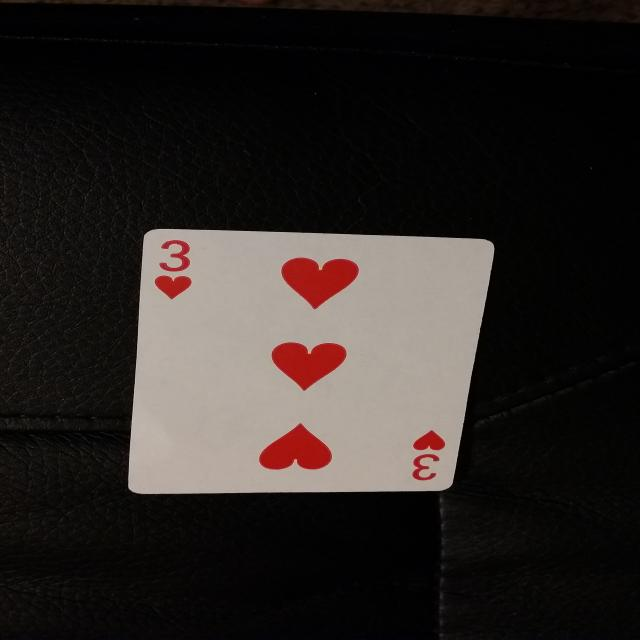3h: (147, 230, 217, 309), (392, 427, 453, 486)
